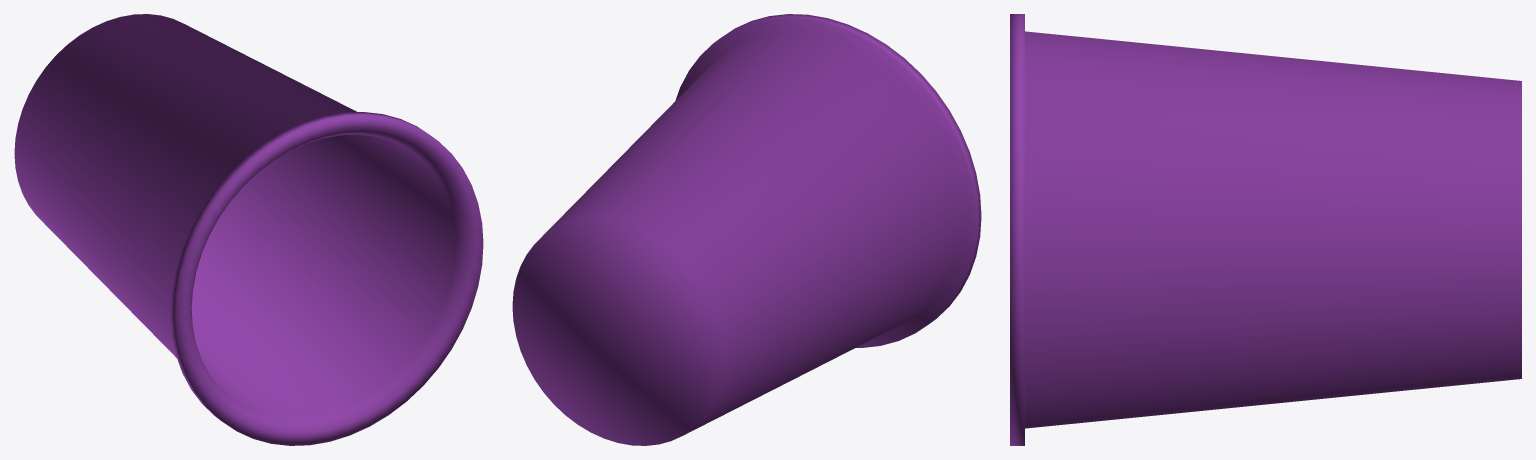
File: Cup_Purple.obj
The picture shows the model from 3 angles, left to right: view 1: azimuth 30°, elevation 25°; view 2: azimuth 150°, elevation 25°; view 3: azimuth 270°, elevation 25°; orthographic projection. The views are drawn at different scales.
Parts seen in each view (by area): view 1: Cup_Purple; view 2: Cup_Purple; view 3: Cup_Purple.
Part boxes in pixels (<box>): Cup_Purple: <box>14,14,483,445</box>; Cup_Purple: <box>512,14,981,445</box>; Cup_Purple: <box>1010,14,1521,445</box>.
Size of the model in its own units: 0.087 by 0.087 by 0.103.
